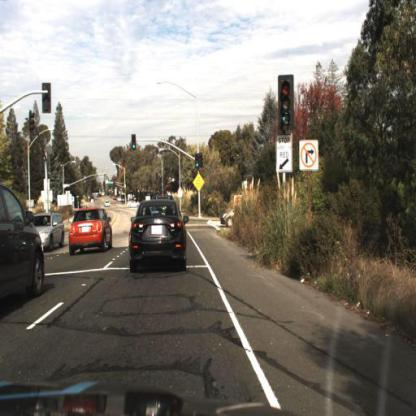car: (123, 189, 198, 287), (1, 182, 49, 324), (60, 199, 120, 257), (29, 211, 65, 257)
trafficLight-Green: (273, 60, 303, 154), (128, 129, 139, 158), (193, 148, 203, 177)
